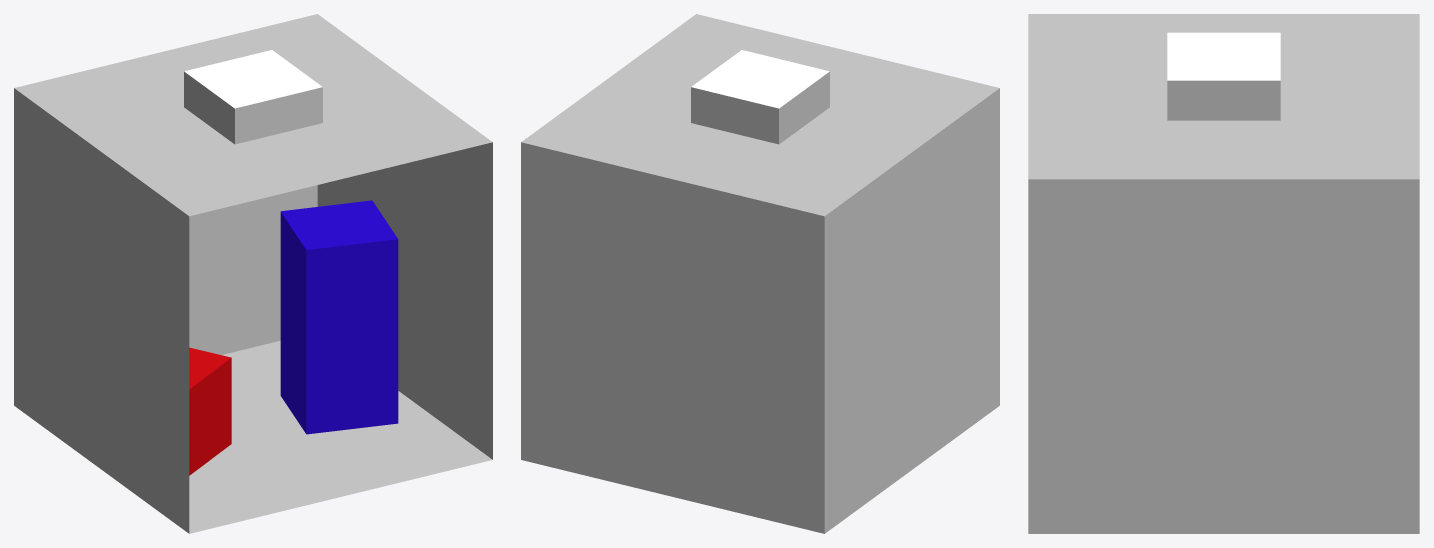
File: Room.glb
3 renders of one model, left to right at view 1: azimuth 30°, elevation 25°; view 2: azimuth 150°, elevation 25°; view 3: azimuth 270°, elevation 25°, orthographic. The views are drawn at different scales.
Visible parts, largest first — view 1: Cube, Cube.002, Cube.001; view 2: Cube; view 3: Cube.
Boxes of the visible parts, bbox=[...] form: Cube: bbox=[14, 14, 492, 533]; Cube.002: bbox=[280, 200, 398, 434]; Cube.001: bbox=[189, 347, 231, 475]; Cube: bbox=[521, 14, 999, 533]; Cube: bbox=[1028, 14, 1419, 533].
Size of the model in its own units: 16 by 17.81 by 16.
